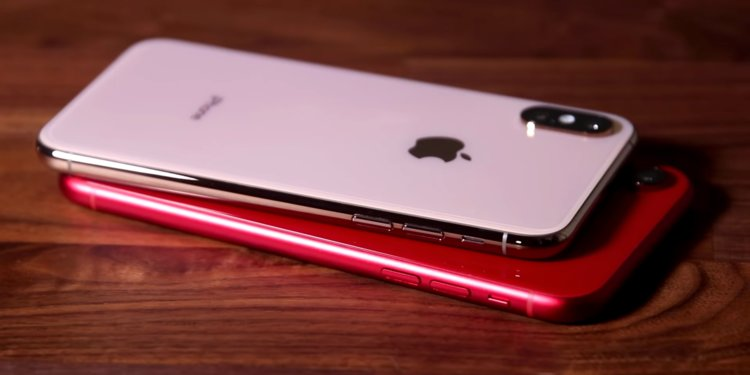apple: (403, 125, 469, 190)
